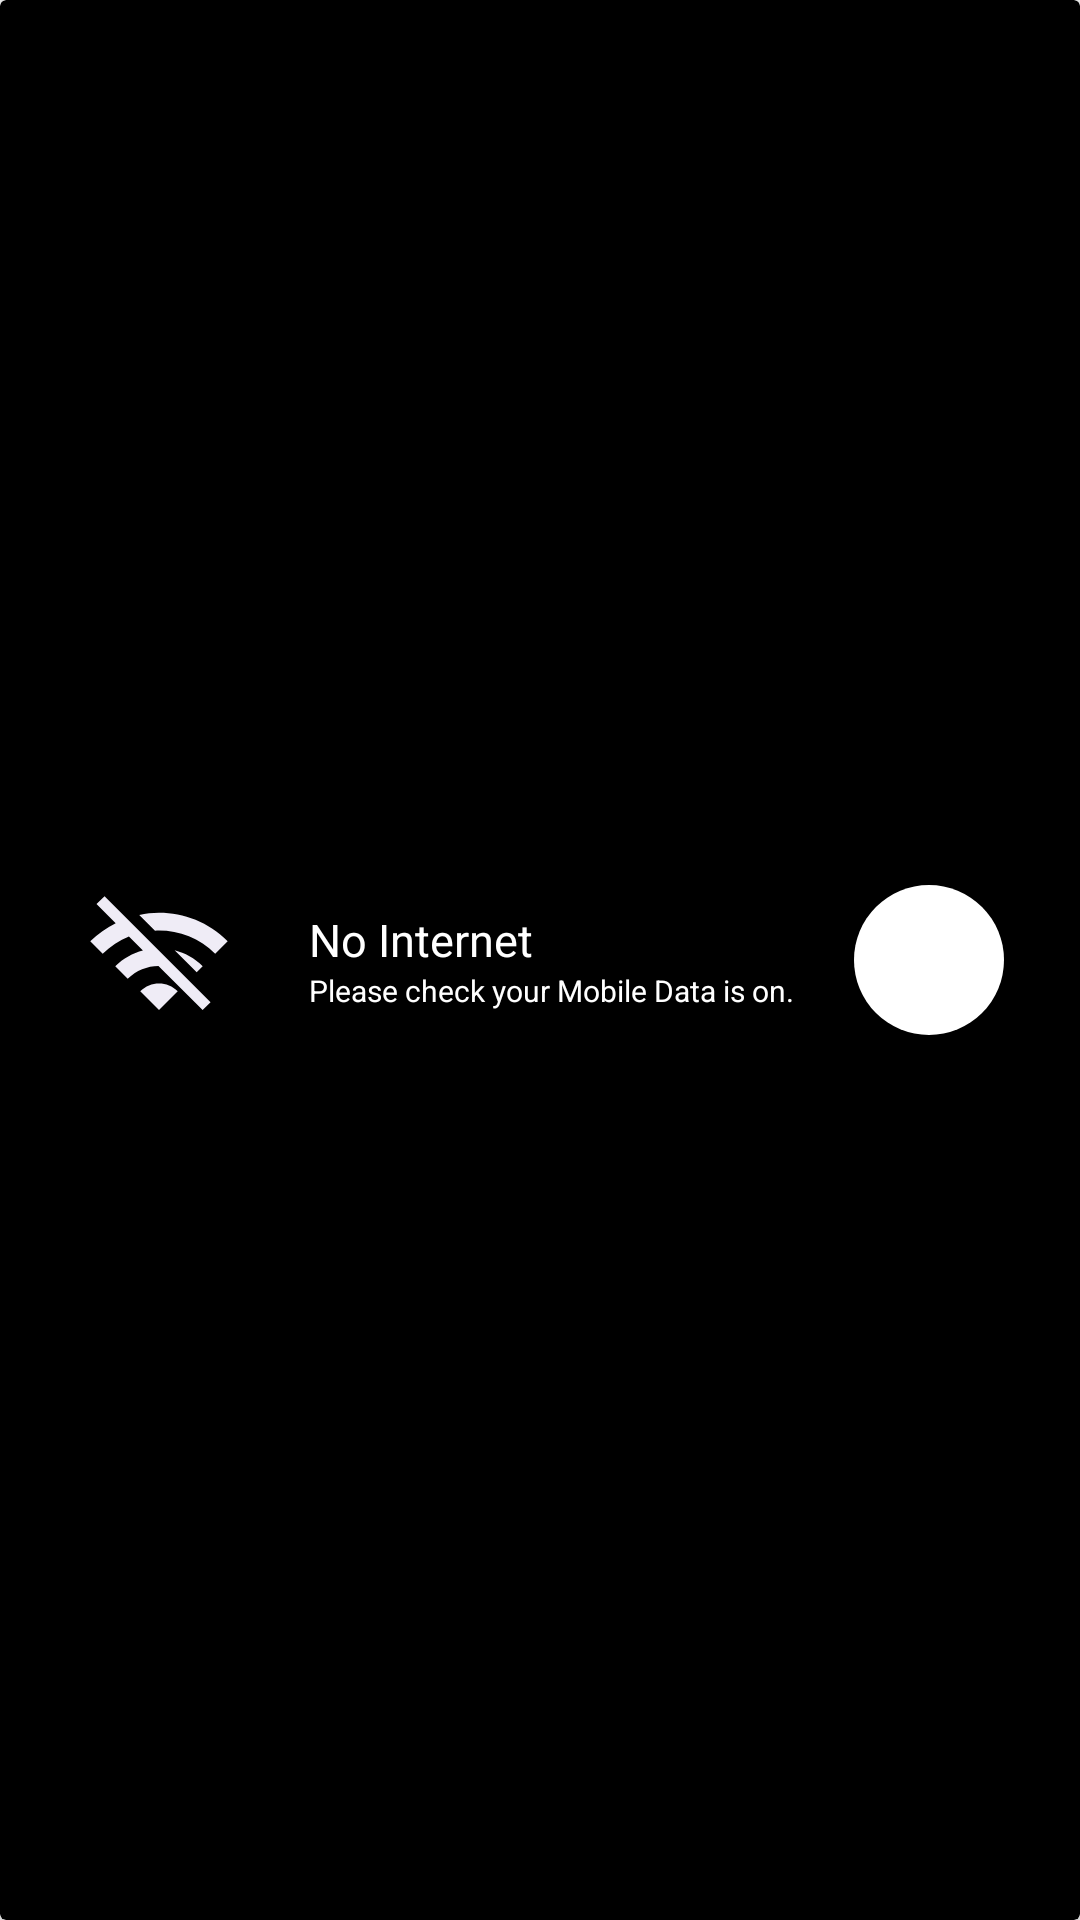

Icon click points for this 1080 x 1920 phone screenshot, format point (x, y):
wifi off: point (159, 953)
